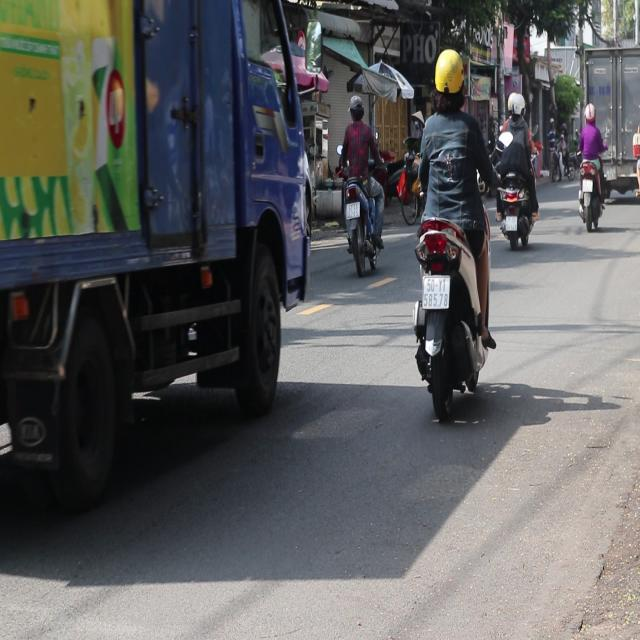helmet: (433, 47, 466, 112), (507, 91, 524, 118)
licenseplate: (408, 45, 498, 420), (338, 92, 385, 274), (493, 89, 539, 249)
motorcyclist: (348, 93, 363, 121)
nohelmet: (422, 275, 449, 308), (346, 203, 360, 220), (505, 215, 517, 230)
